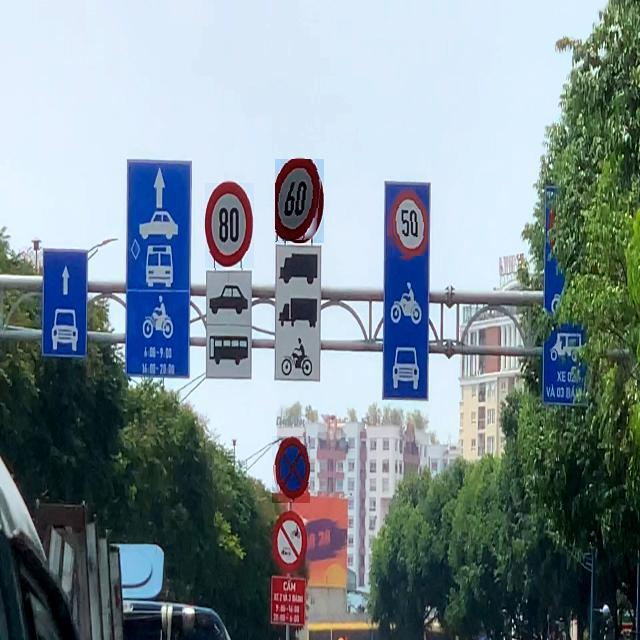P-127: (205, 183, 254, 268), (275, 159, 324, 243), (387, 188, 428, 258)
P-130: (272, 436, 310, 503)
